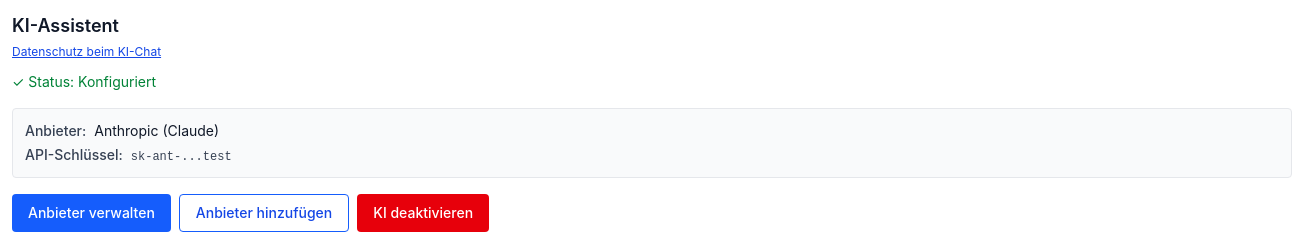
AISettingsSection (multi-provider summary, AI Commit 4b) › "KI deaktivieren" clears the multi-provider config + returns to unconfigured view
The width and height of the screenshot is (1292, 249).
Click the button with test id "ai-settings-deactivate-btn". click: (423, 213)
box: top-left (357, 194), bottom-right (489, 232)
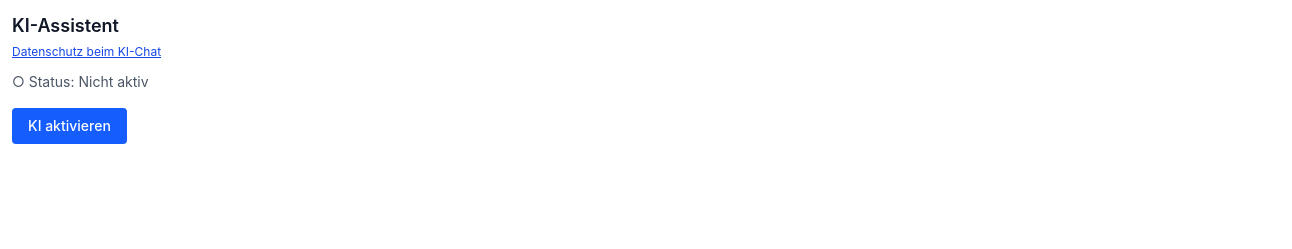
Now the button with test id "ai-settings-activate-btn" is shown, box top-left (12, 108), bottom-right (127, 144)
Now the element with test id "ai-settings-summary" is gone
